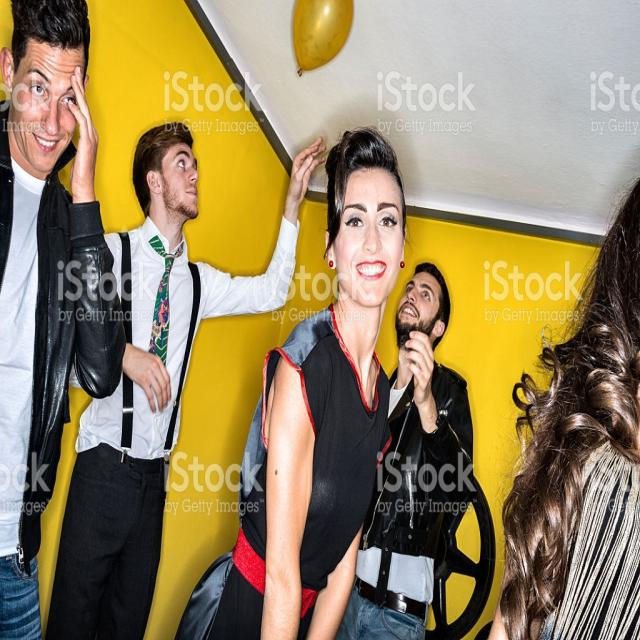body: (54, 117, 334, 639), (166, 119, 410, 639), (0, 0, 129, 639), (489, 173, 640, 640), (336, 258, 478, 639)
